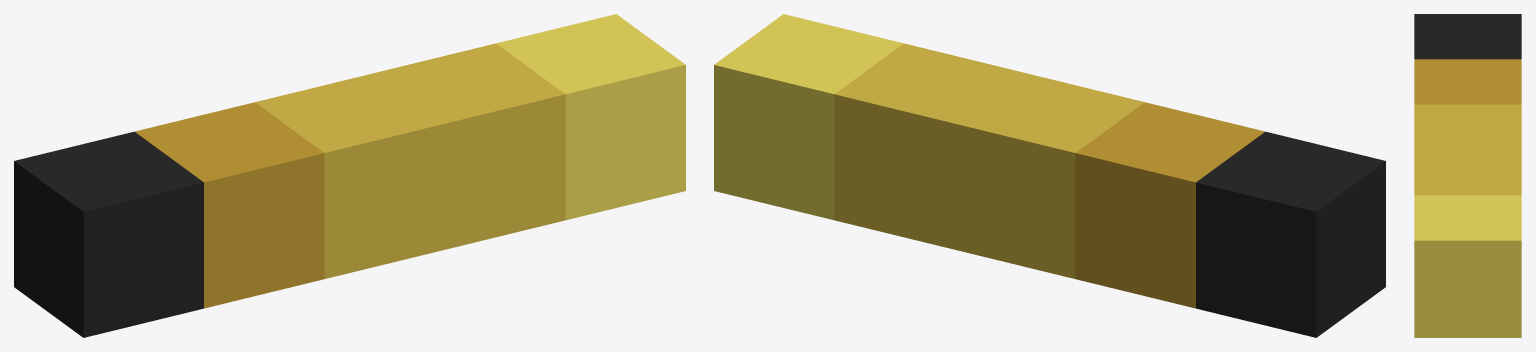
The model's file is 5mmA.obj.
3 views of the same model, side by side, from view 1: azimuth 30°, elevation 25°; view 2: azimuth 150°, elevation 25°; view 3: azimuth 270°, elevation 25° (orthographic). The views are drawn at different scales.
Visible parts, largest first — view 1: 5mm; view 2: 5mm; view 3: 5mm.
Boxes of the visible parts, box(x1,y1,x2,y2) form: 5mm: box(14, 14, 685, 337); 5mm: box(714, 14, 1385, 337); 5mm: box(1414, 14, 1521, 337).
Bounding box in the file's own units: 0.5 × 0.1 × 0.1.
1 material, 1 textured.
